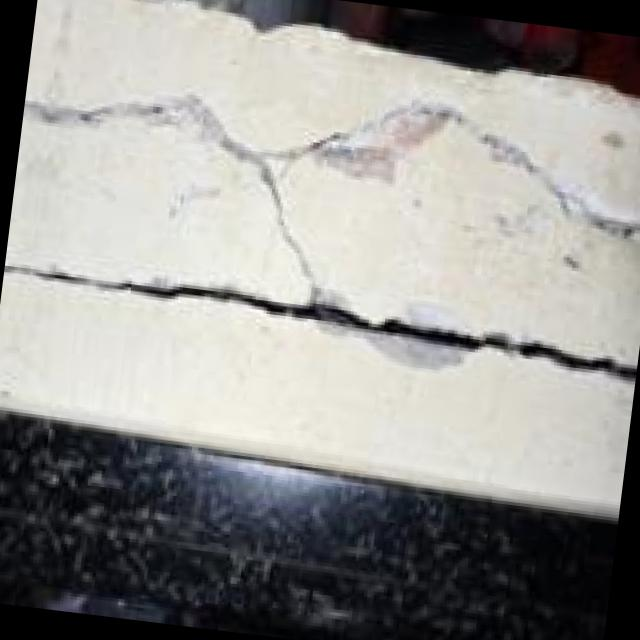crack: (2, 201, 640, 486)
